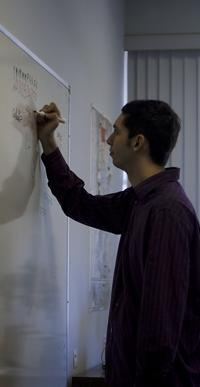person without safety: (98, 98, 200, 376)
